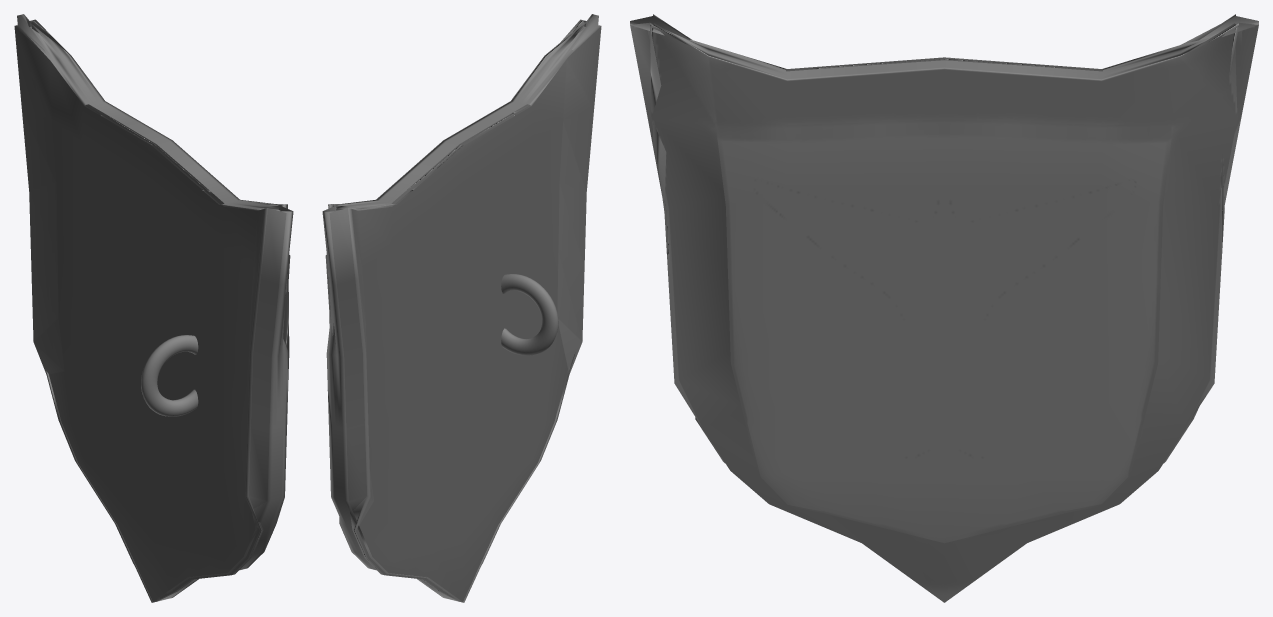
File: source shield.fbx
3 views of the same model, side by side, from view 1: azimuth 30°, elevation 25°; view 2: azimuth 150°, elevation 25°; view 3: azimuth 270°, elevation 25° (orthographic). The views are drawn at different scales.
Visible parts, largest first — view 1: Shield, Handle; view 2: Shield, Handle; view 3: Shield.
Boxes of the visible parts, left/top/right/bottom form: Shield: left=14, top=14, right=293, bottom=602; Handle: left=141, top=335, right=198, bottom=416; Shield: left=322, top=14, right=601, bottom=602; Handle: left=501, top=274, right=558, bottom=355; Shield: left=630, top=14, right=1258, bottom=602.
Bounding box in the file's own units: 39.91 × 200 × 200.
Materials: 2 (2 with a texture image).
